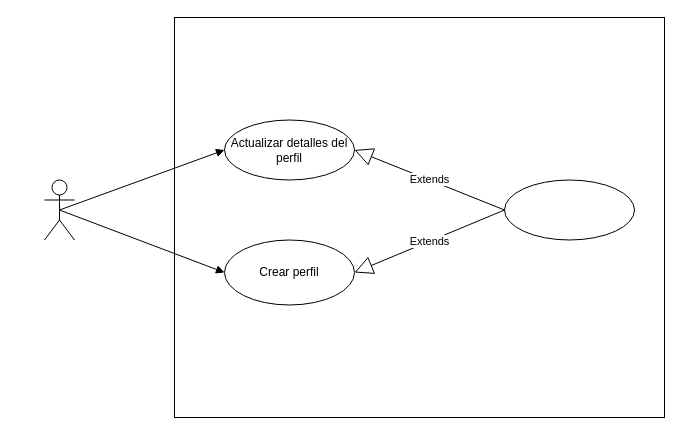
This 682x435 diagram has some shape labels left out. The centre of each missing label's shape, as x and y in pixels:
Personalizar perfil: (x=569, y=209)
Usuario Alumno: (x=59, y=209)
